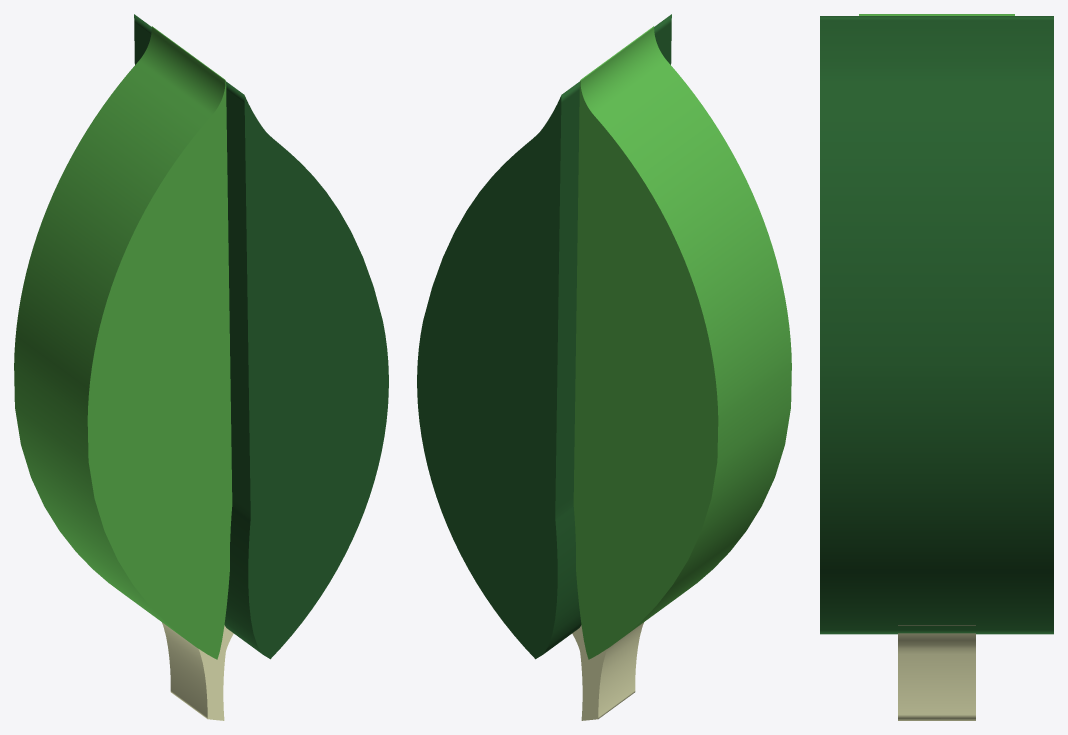
File: mongodb.glb
The picture shows the model from 3 angles, left to right: view 1: azimuth 30°, elevation 25°; view 2: azimuth 150°, elevation 25°; view 3: azimuth 270°, elevation 25°; orthographic projection. The views are drawn at different scales.
Parts seen in each view (by area): view 1: Curve.003, Curve.001, Curve; view 2: Curve.003, Curve.001, Curve; view 3: Curve.001, Curve.
Part boxes in pixels (box(x1,y1,x2,y2)): Curve.003: box(14, 26, 232, 659); Curve.001: box(134, 14, 388, 659); Curve: box(162, 622, 233, 720); Curve.003: box(573, 26, 791, 659); Curve.001: box(417, 14, 671, 659); Curve: box(572, 622, 643, 720); Curve.001: box(820, 16, 1053, 634); Curve: box(898, 625, 975, 720).
Size of the model in its own units: 0.9086 by 2.02 by 0.6144.
